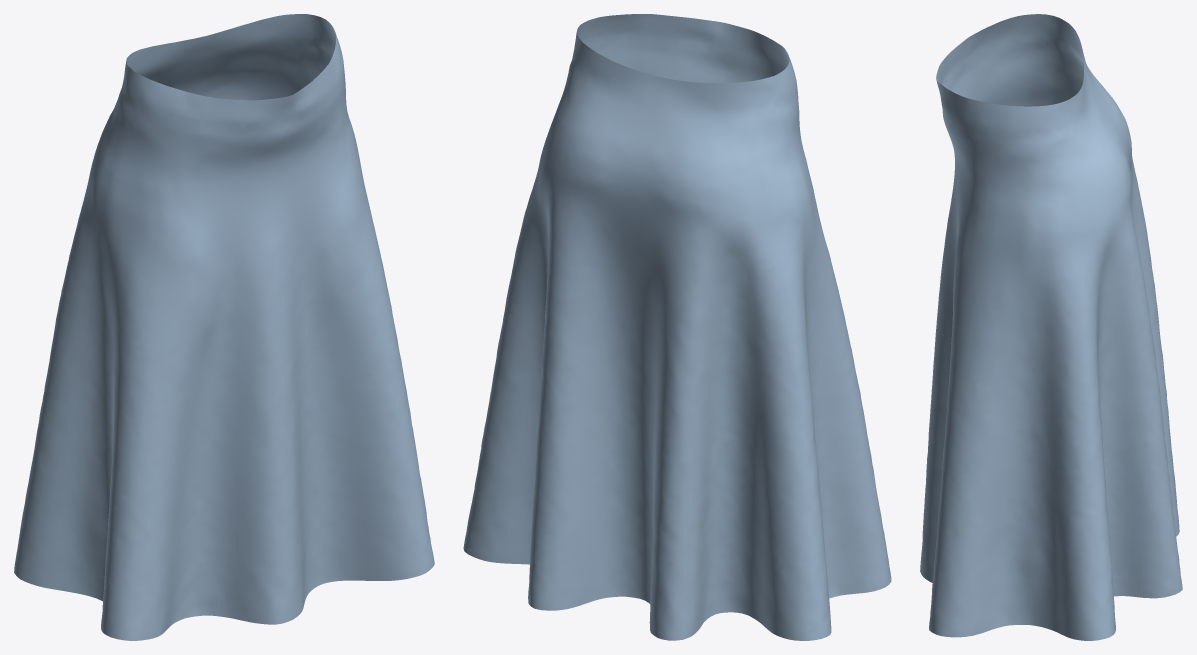
The model's file is skirt_L.glb.
The picture shows the model from 3 angles, left to right: view 1: azimuth 30°, elevation 25°; view 2: azimuth 150°, elevation 25°; view 3: azimuth 270°, elevation 25°; orthographic projection. The views are drawn at different scales.
Parts seen in each view (by area): view 1: geometry_0; view 2: geometry_0; view 3: geometry_0.
Boxes of the visible parts, x1,y1,x2,y2 form: geometry_0: (14, 14, 434, 640); geometry_0: (463, 14, 891, 640); geometry_0: (920, 14, 1182, 640).
Bounding box in the file's own units: 0.5938 × 0.8395 × 0.3884.
